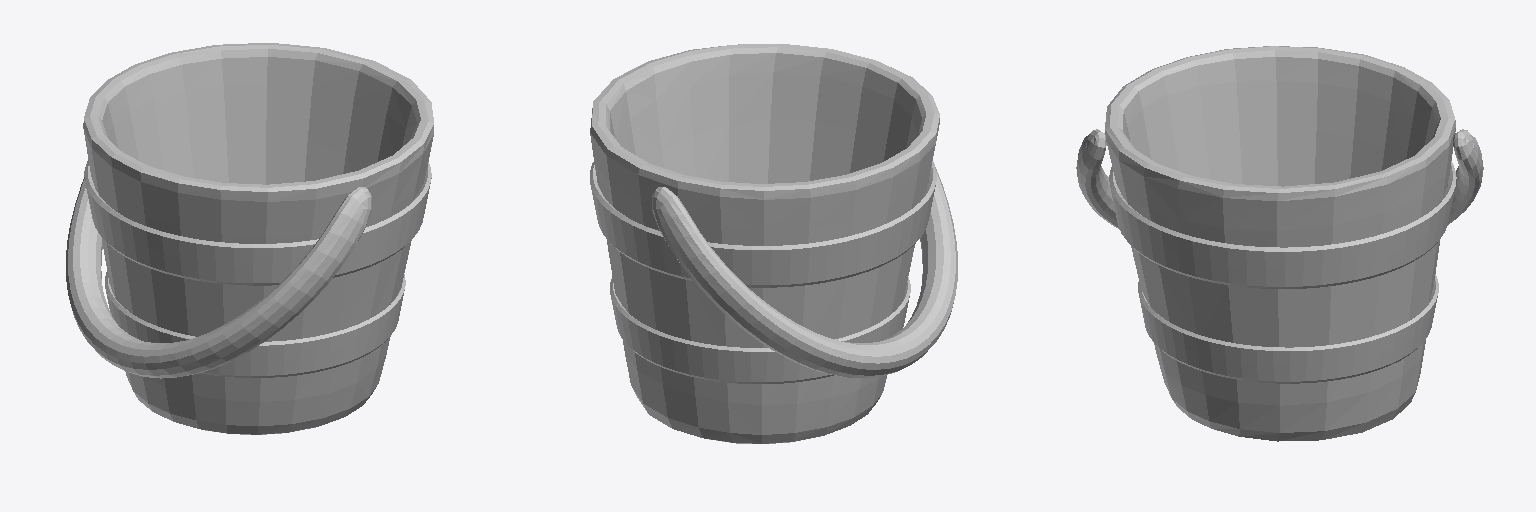
The model's file is Bucket.obj.
3 renders of one model, left to right at view 1: azimuth 30°, elevation 25°; view 2: azimuth 150°, elevation 25°; view 3: azimuth 270°, elevation 25°, orthographic.
Visible parts, largest first — view 1: pCylinder5; view 2: pCylinder5; view 3: pCylinder5.
Boxes of the visible parts, x1,y1,x2,y2 form: pCylinder5: [66, 43, 433, 434]; pCylinder5: [590, 44, 957, 443]; pCylinder5: [1076, 46, 1483, 441].
Bounding box in the file's own units: 19.56 × 16.76 × 22.14.